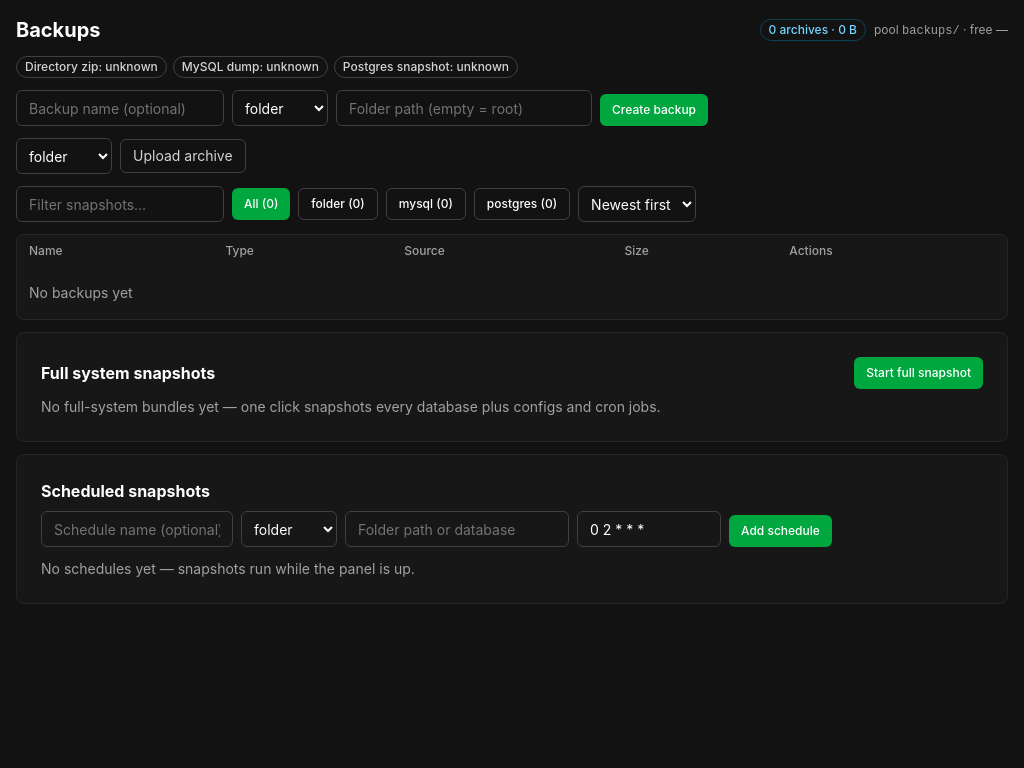
Test case: web backup page › shows create errors
Click the button "Create backup": click(654, 110) [600,94,708,126]
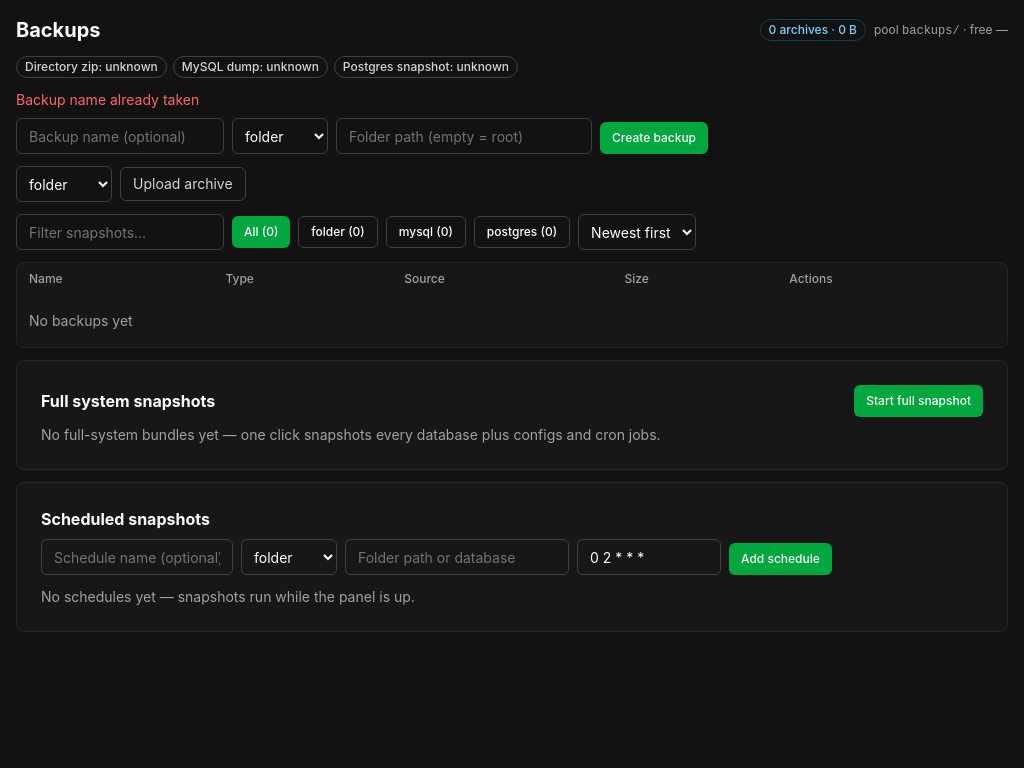
Result: the message reads "Backup name already taken" at [16,91,199,108]
